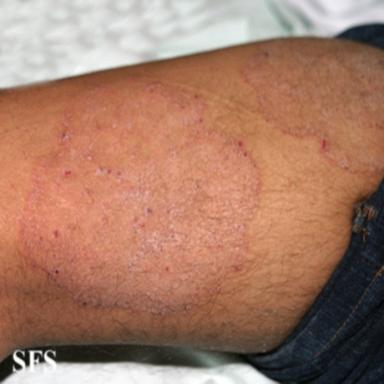Tinea-Corporis: (19, 81, 263, 314), (239, 46, 384, 177)
